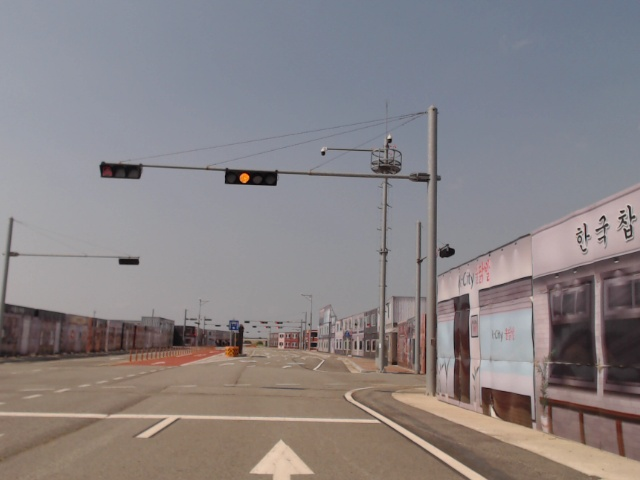orange_4: (223, 167, 279, 187)
